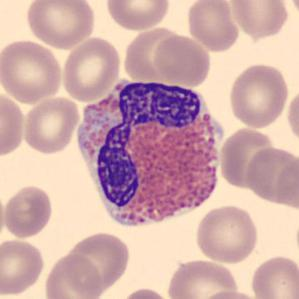Eosinophil: (70, 68, 232, 236)
RBC: (226, 61, 291, 129), (0, 37, 65, 105), (63, 230, 132, 294), (60, 34, 123, 103), (194, 203, 260, 264), (23, 0, 98, 50), (21, 94, 81, 156), (243, 144, 298, 209), (218, 127, 277, 186), (152, 33, 212, 87), (165, 257, 240, 299), (2, 182, 55, 240), (185, 0, 242, 53), (42, 251, 104, 299), (0, 236, 47, 298), (227, 0, 292, 40), (248, 252, 298, 299), (103, 0, 172, 32), (0, 89, 27, 160), (285, 85, 299, 146), (117, 286, 173, 299), (199, 289, 261, 299), (0, 186, 7, 246), (284, 0, 299, 21)
